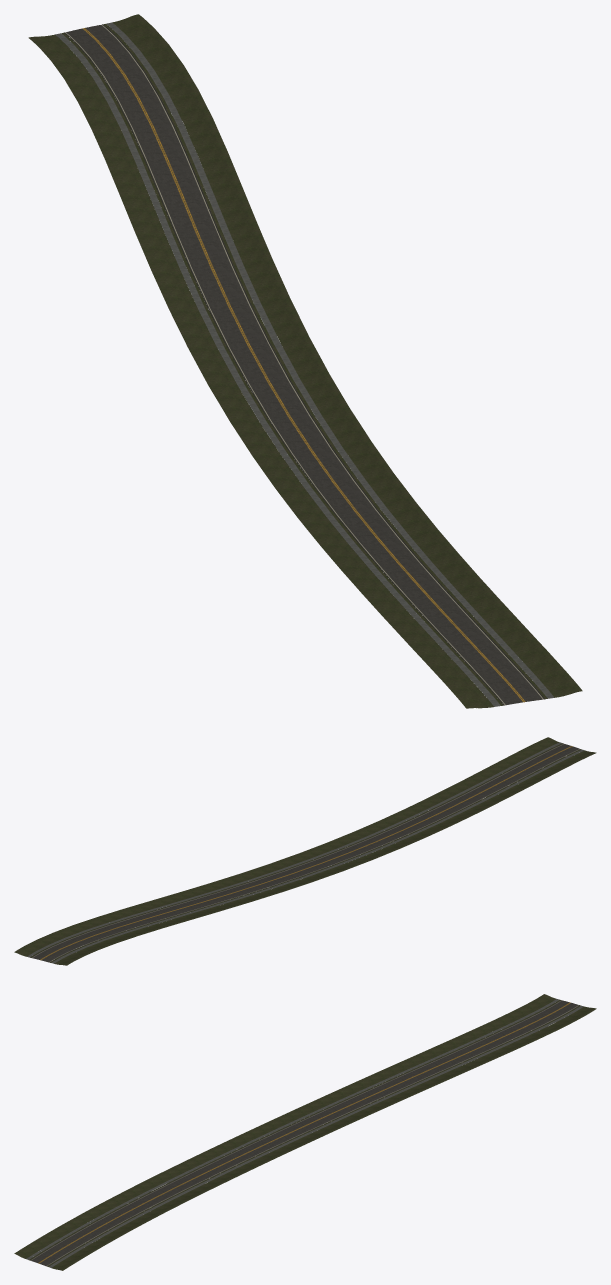
The model's file is american_road (1).glb.
3 views of the same model, one above another, from view 1: azimuth 30°, elevation 25°; view 2: azimuth 150°, elevation 25°; view 3: azimuth 330°, elevation 25° (orthographic). The views are drawn at different scales.
Visible parts, largest first — view 1: Material2 (×3); view 2: Material2 (×3); view 3: Material2 (×3).
Part boxes in pixels (bbox=[...]): Material2 (×3): bbox=[28, 14, 582, 708]; Material2 (×3): bbox=[14, 737, 596, 965]; Material2 (×3): bbox=[14, 994, 596, 1270].
Bounding box in the file's own units: 3212 × 371 × 10070.
3 materials, 3 textured.
